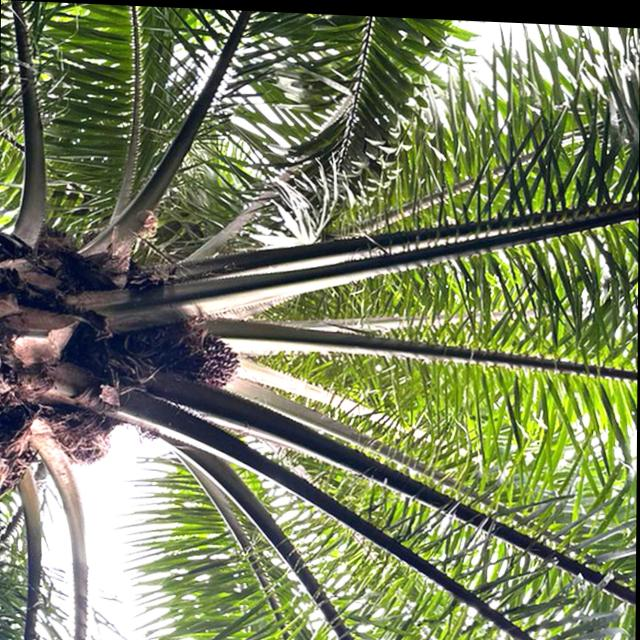ripe: (171, 325, 256, 400)
